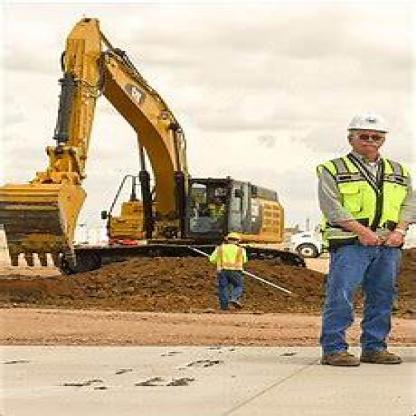person: (317, 95, 414, 381), (195, 218, 248, 314)
